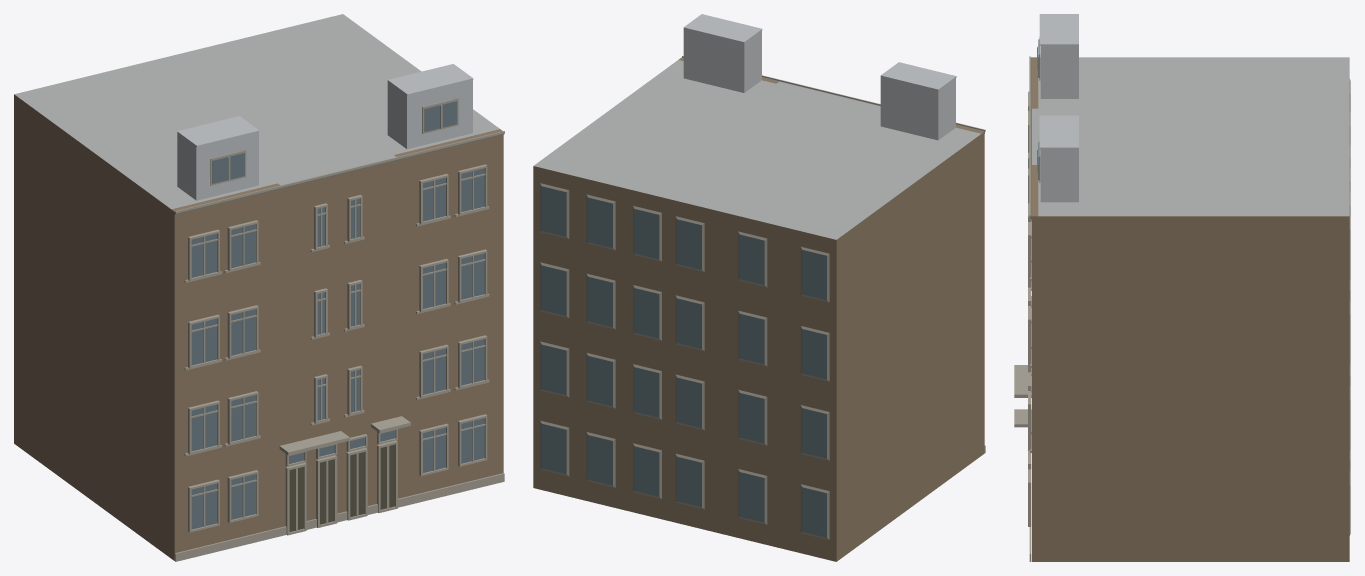
Rendered from chunk-face-zwijgerlaan-225-279-r2.glb.
The picture shows the model from 3 angles, left to right: view 1: azimuth 30°, elevation 25°; view 2: azimuth 150°, elevation 25°; view 3: azimuth 270°, elevation 25°; orthographic projection. The views are drawn at different scales.
Visible parts, largest first — view 1: face-zwijgerlaan-225-279-r2; view 2: face-zwijgerlaan-225-279-r2; view 3: face-zwijgerlaan-225-279-r2.
Boxes of the visible parts, x1,y1,x2,y2 form: face-zwijgerlaan-225-279-r2: [14, 14, 504, 561]; face-zwijgerlaan-225-279-r2: [533, 14, 985, 561]; face-zwijgerlaan-225-279-r2: [1014, 14, 1350, 561].
Bounding box in the file's own units: 12.81 × 15.11 × 11.46.
